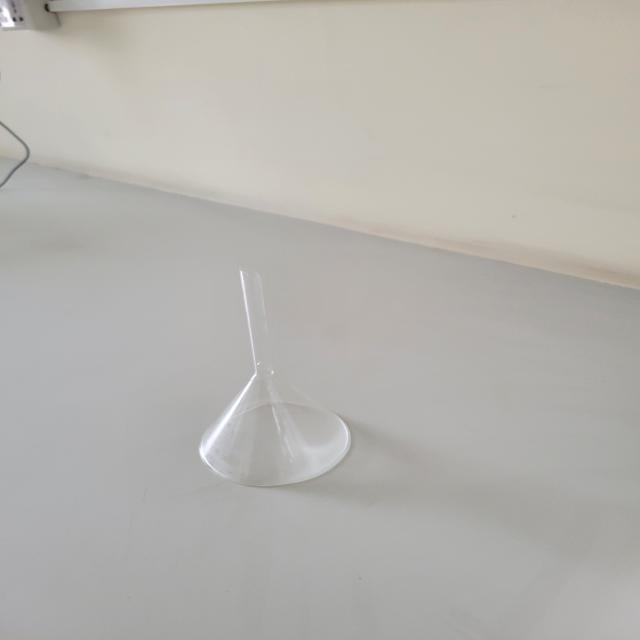Funnel: (178, 224, 375, 507)
